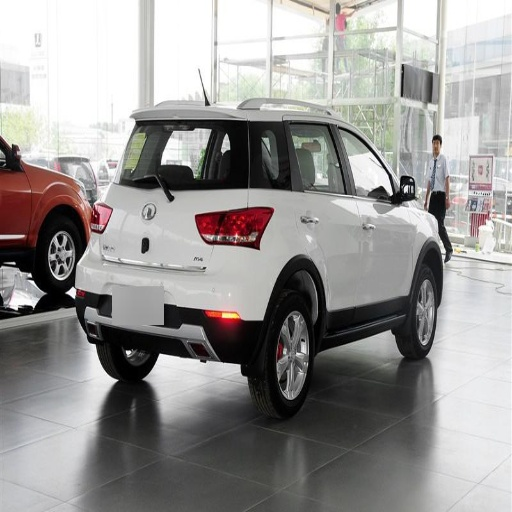back_bumper: (80, 246, 275, 355)
back_right_door: (273, 116, 363, 317)
trunk: (100, 189, 242, 273)
